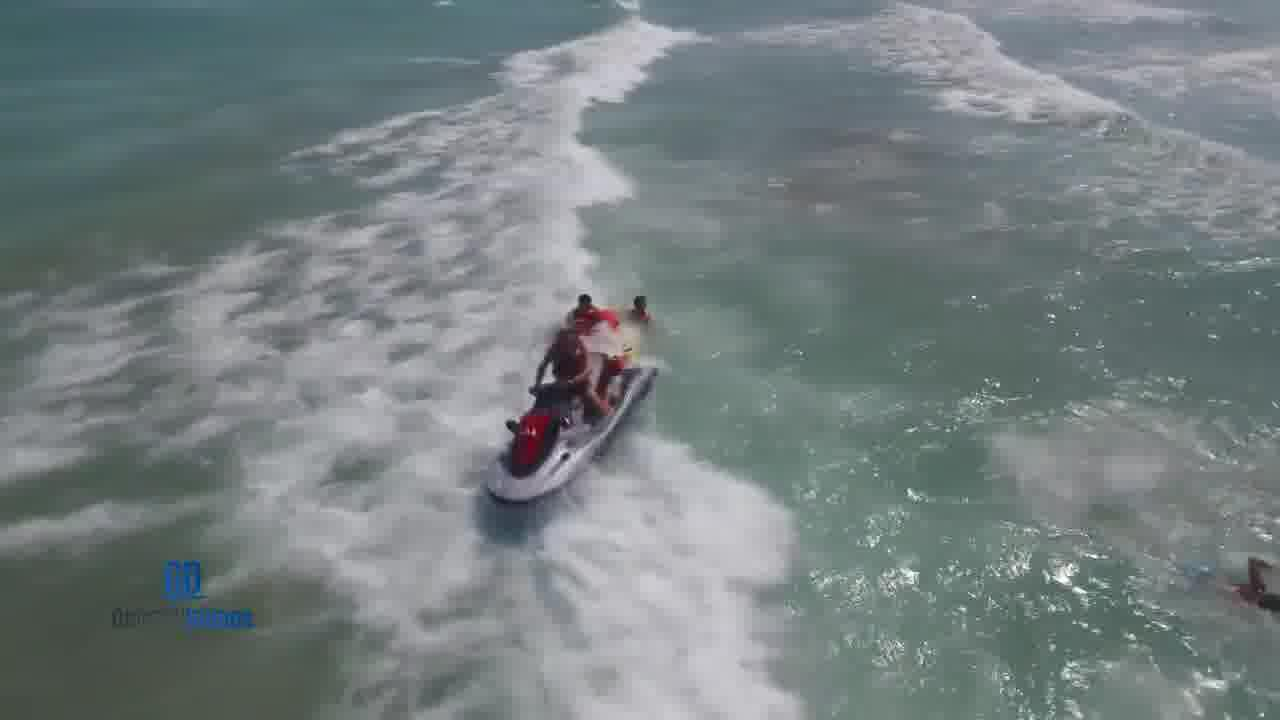human: (1211, 543, 1280, 621), (601, 282, 671, 329)
